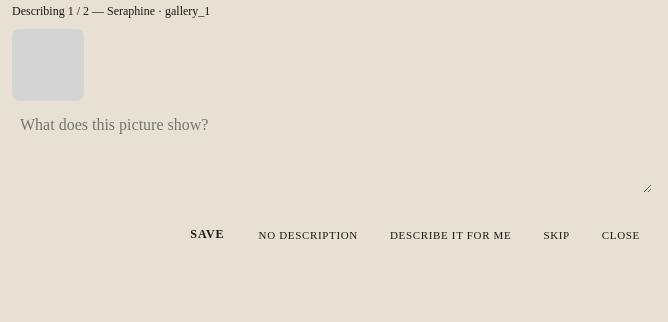
Test: a failed save keeps the image in the queue and says why
The image size is (668, 322).
Step 1. Click the button "Save" → point(207, 234), box [176,219,239,250]
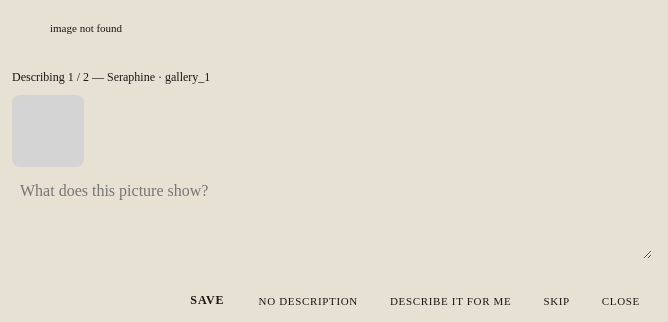
Expected: the text "Describing 1 / 2 — Seraphine · gallery_1" is shown, [12,70,210,84]
Now the text "image not found" is shown, box [50,22,122,34]
